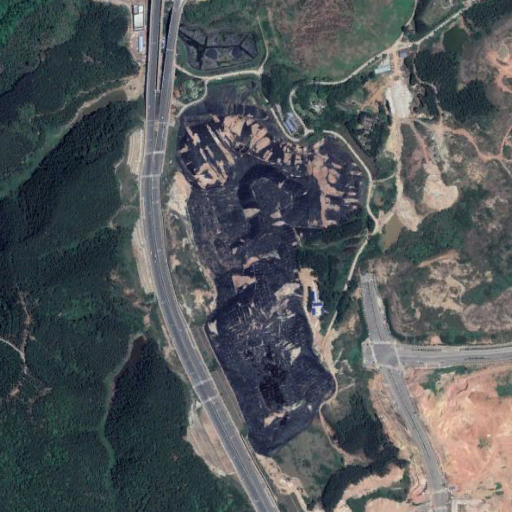lf: (173, 81, 366, 454)
